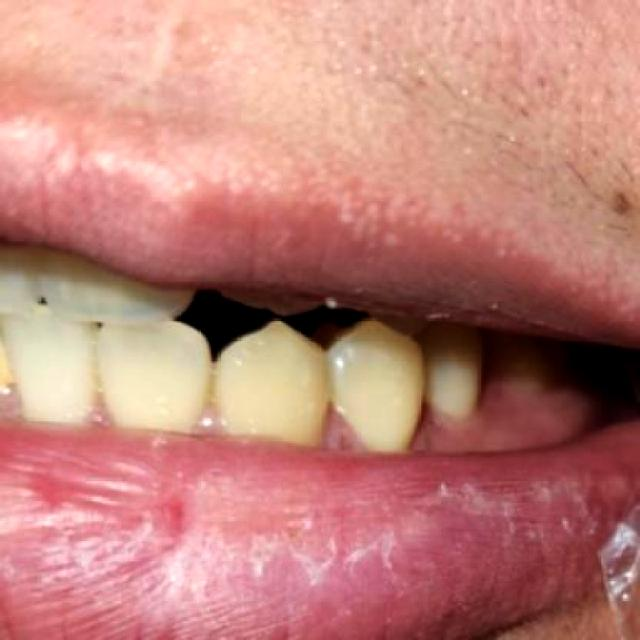Plaque: (311, 401, 362, 465)
